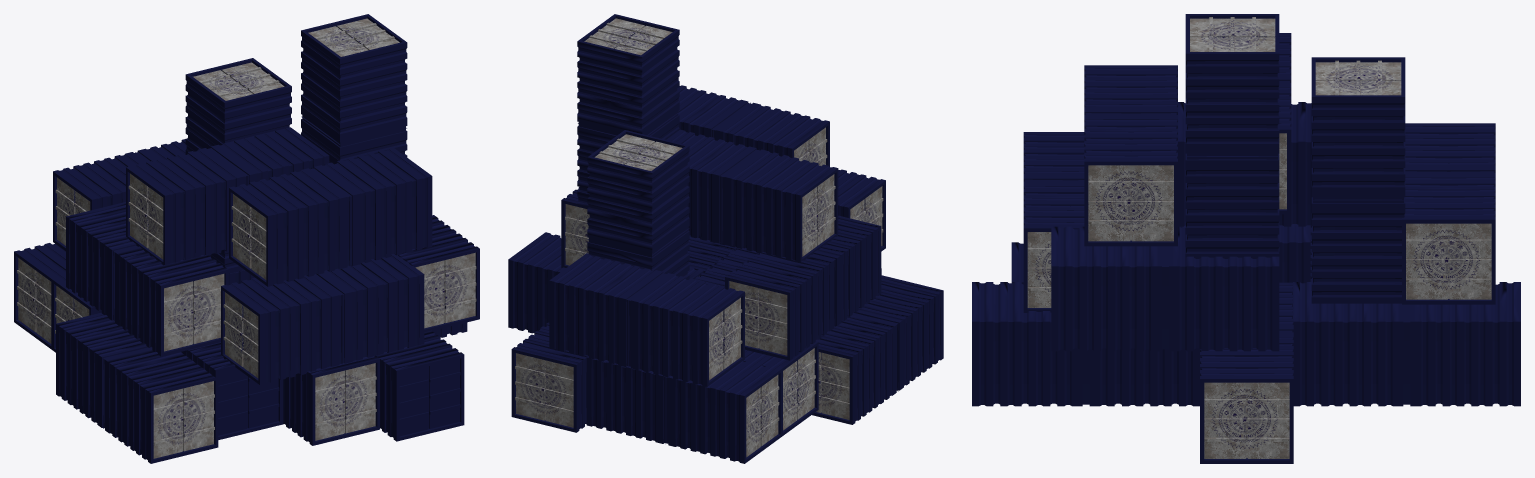
The model's file is boxMount.fbx.
The picture shows the model from 3 angles, left to right: view 1: azimuth 30°, elevation 25°; view 2: azimuth 150°, elevation 25°; view 3: azimuth 270°, elevation 25°; orthographic projection. The views are drawn at different scales.
Parts seen in each view (by area): view 1: Cube.009; view 2: Cube.009; view 3: Cube.009.
Part boxes in pixels (x1=…): Cube.009: x1=14, y1=14, x2=479, y2=463; Cube.009: x1=508, y1=14, x2=943, y2=463; Cube.009: x1=972, y1=14, x2=1520, y2=463.
Size of the model in its own units: 3888 by 4211 by 3221.
